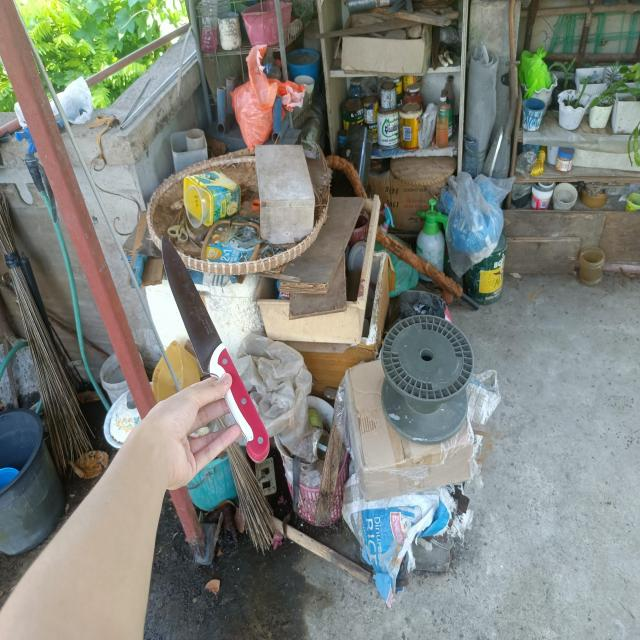knife: (162, 235, 270, 463)
